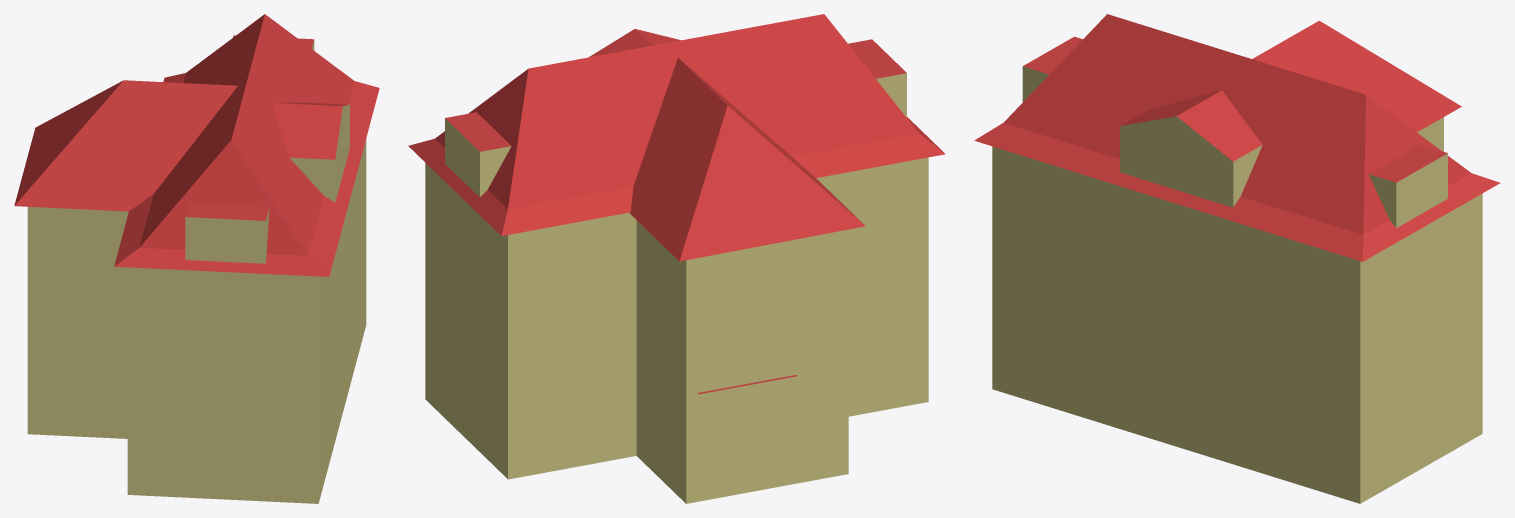
The picture shows the model from 3 angles, left to right: view 1: azimuth 30°, elevation 25°; view 2: azimuth 150°, elevation 25°; view 3: azimuth 270°, elevation 25°; orthographic projection. The views are drawn at different scales.
Size of the model in its own units: 28.22 by 30.36 by 22.73.
